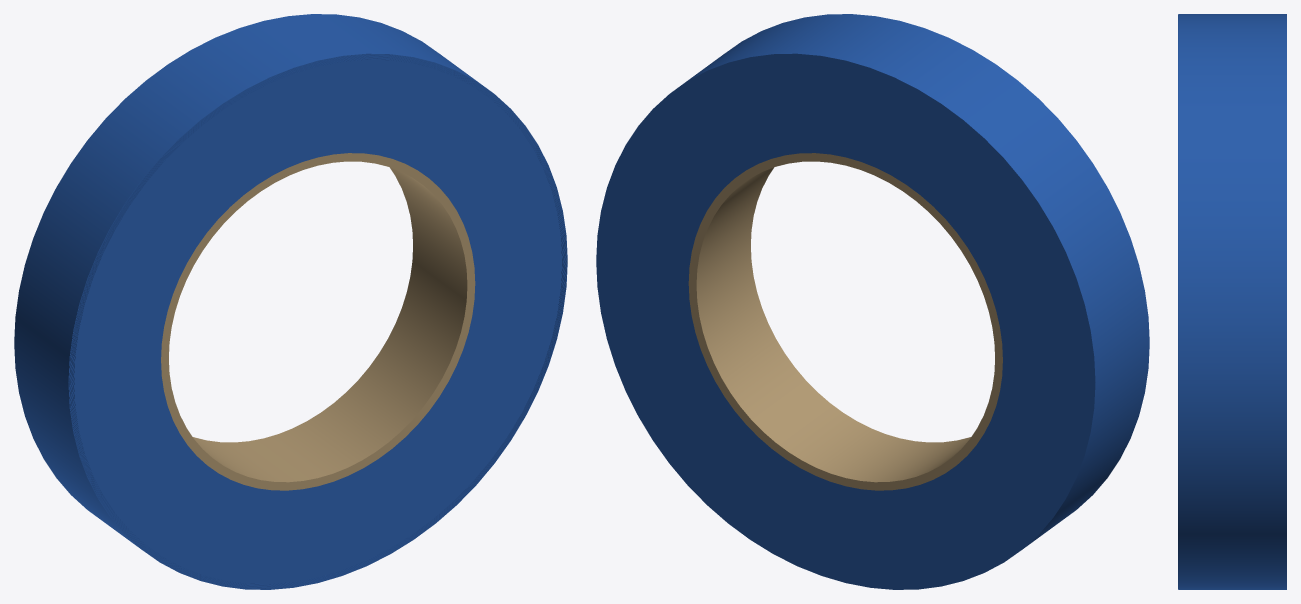
The model's file is prepared_masking_tape.glb.
3 views of the same model, side by side, from view 1: azimuth 30°, elevation 25°; view 2: azimuth 150°, elevation 25°; view 3: azimuth 270°, elevation 25° (orthographic).
Visible parts, largest first — view 1: wound_blue_tape, paper_core, winding_edge_3, winding_edge_6, winding_edge_5, winding_edge_8, winding_edge_7, winding_edge_1, winding_edge_2, winding_edge_10, winding_edge_4, winding_edge_9; view 2: wound_blue_tape, paper_core; view 3: wound_blue_tape, winding_edge_1.
Part boxes in pixels (<box>): wound_blue_tape: <box>14,14,567,589</box>; paper_core: <box>161,153,475,490</box>; winding_edge_3: <box>70,55,566,588</box>; winding_edge_6: <box>71,57,564,586</box>; winding_edge_5: <box>71,56,565,586</box>; winding_edge_8: <box>73,58,563,585</box>; winding_edge_7: <box>72,58,563,585</box>; winding_edge_1: <box>69,54,567,589</box>; winding_edge_2: <box>69,55,566,588</box>; winding_edge_10: <box>74,59,562,584</box>; winding_edge_4: <box>70,56,565,587</box>; winding_edge_9: <box>73,59,562,584</box>; wound_blue_tape: <box>596,14,1149,589</box>; paper_core: <box>688,153,1002,490</box>; wound_blue_tape: <box>1178,14,1286,589</box>; winding_edge_1: <box>1178,15,1178,588</box>.
Size of the model in its own units: 0.1274 by 0.1274 by 0.0241.
